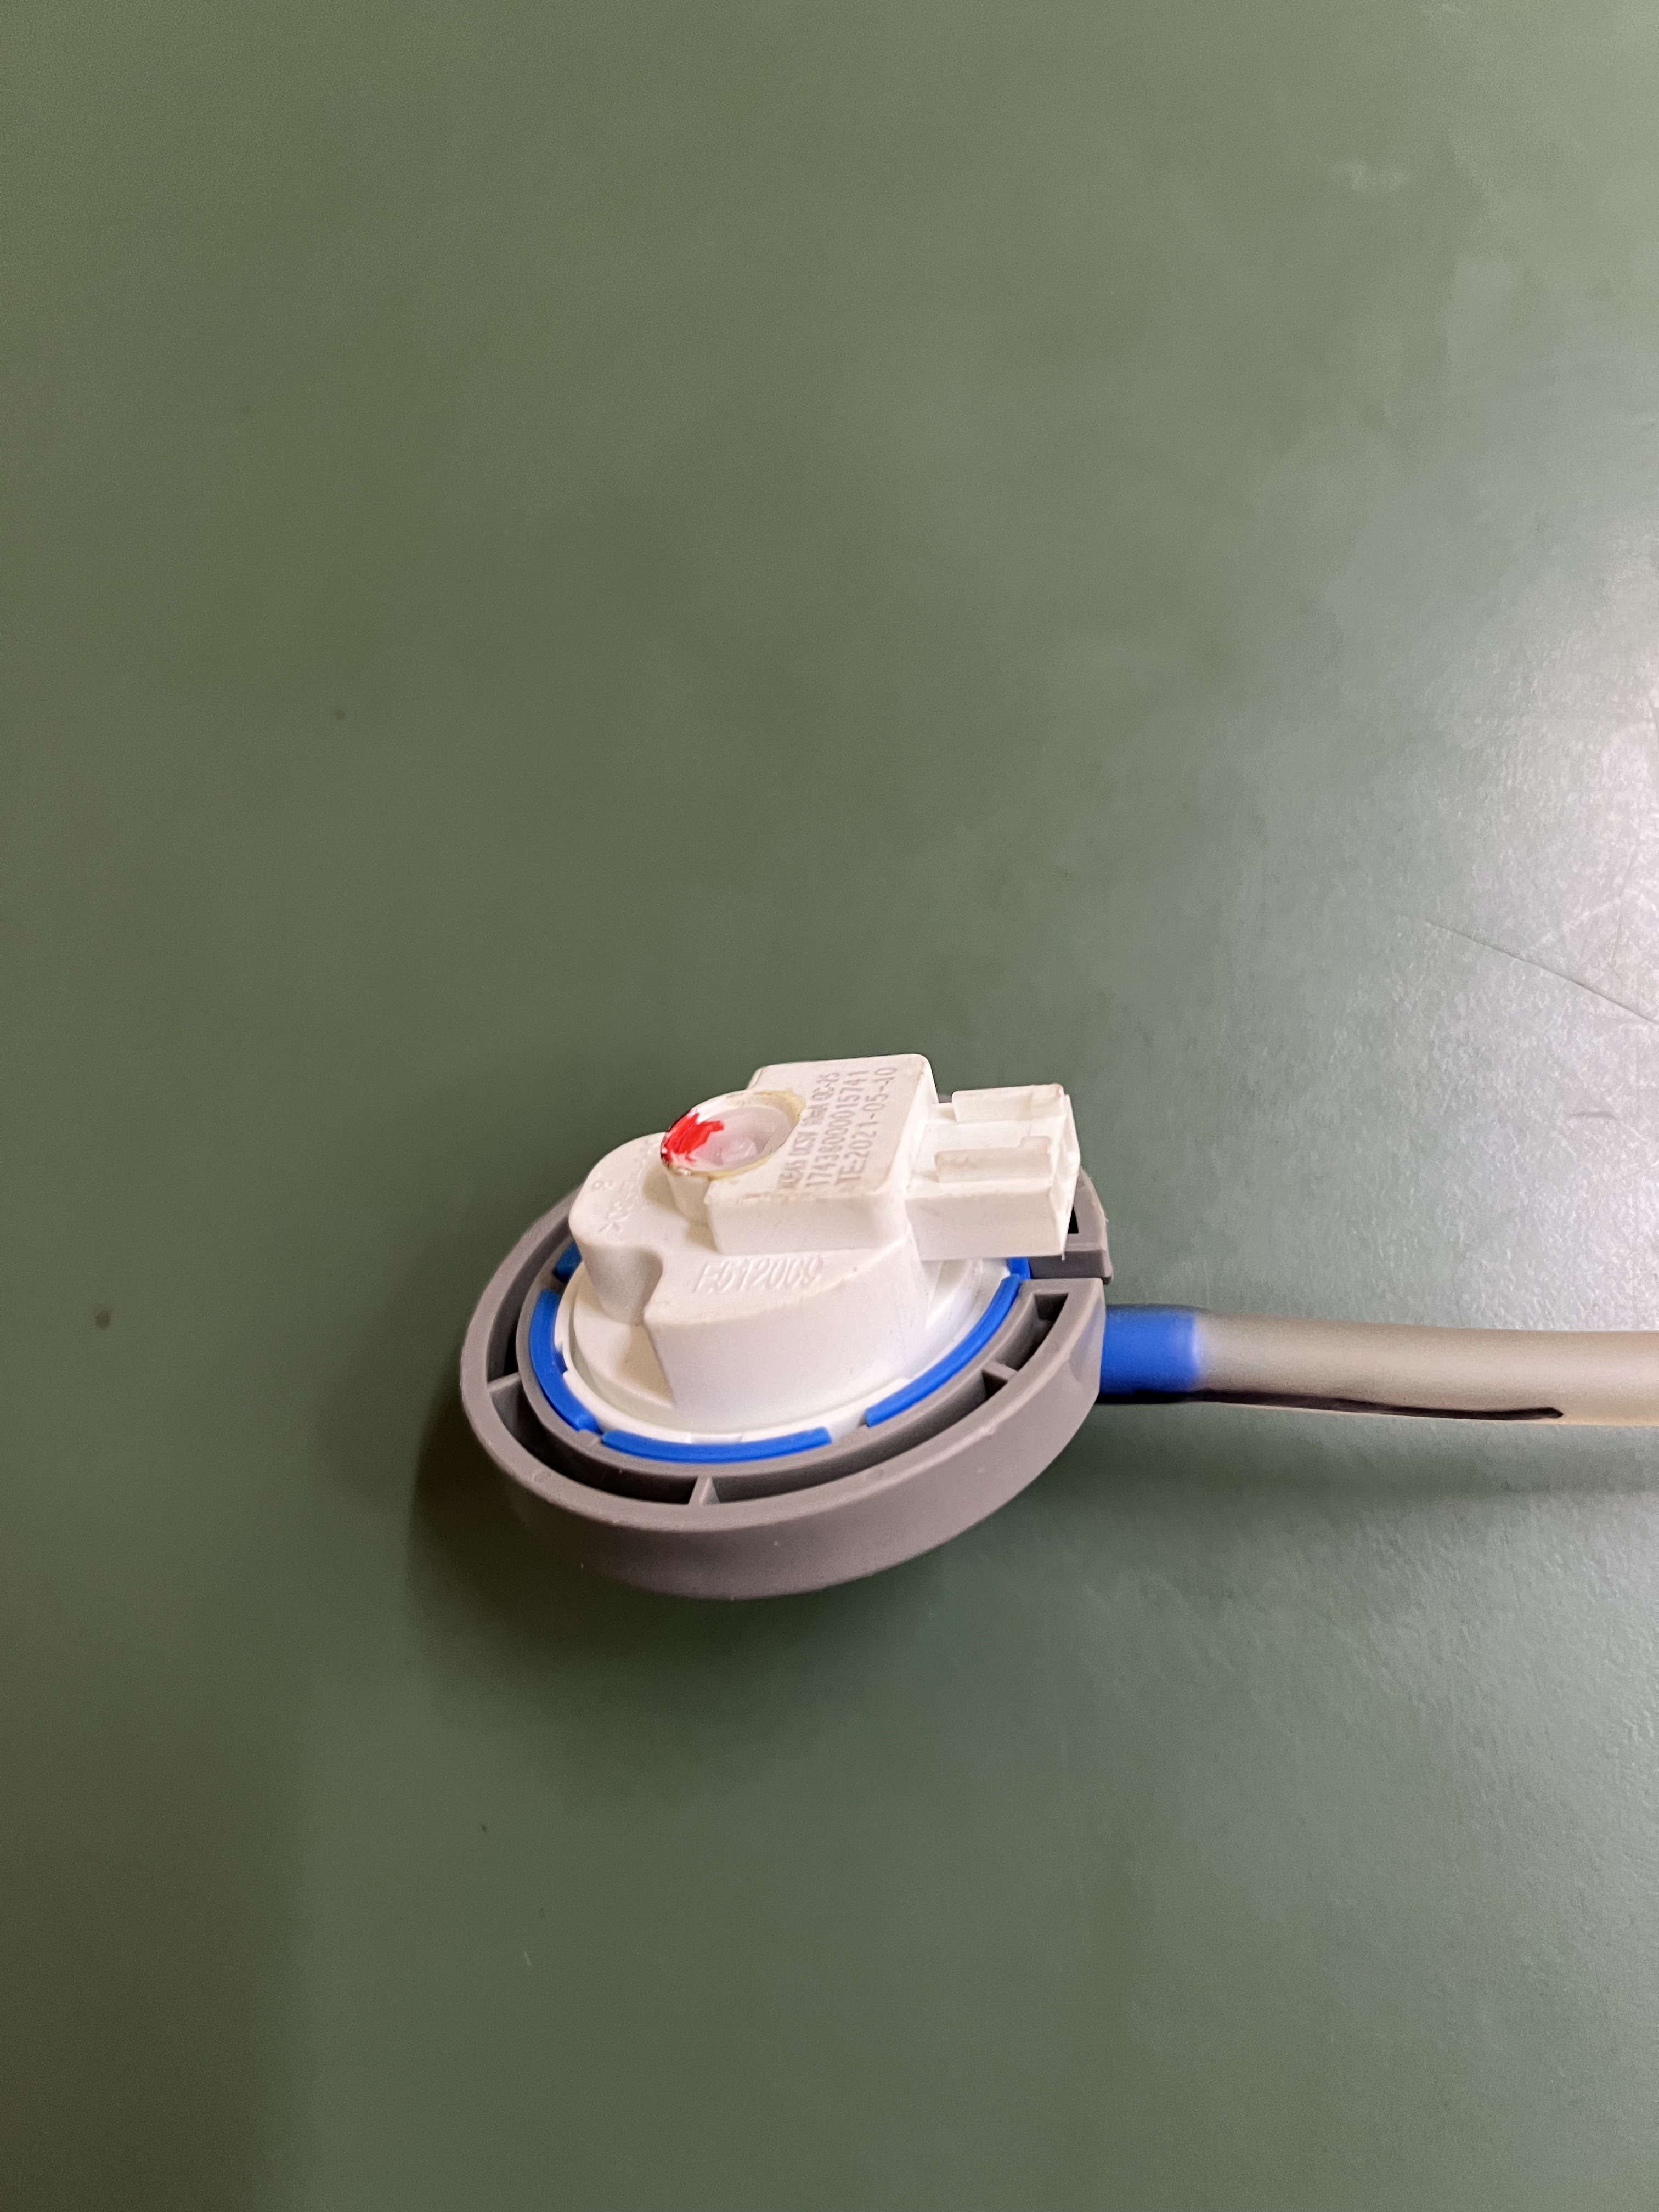pressure_sensor: (403, 1042, 1147, 1587)
